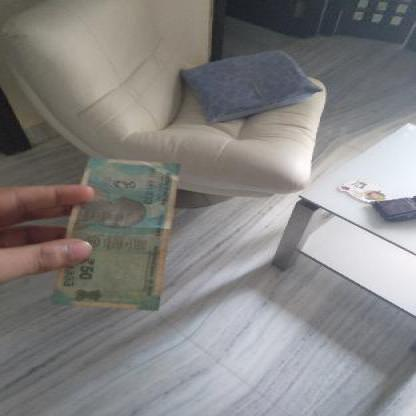New50Front: (56, 154, 168, 318)
